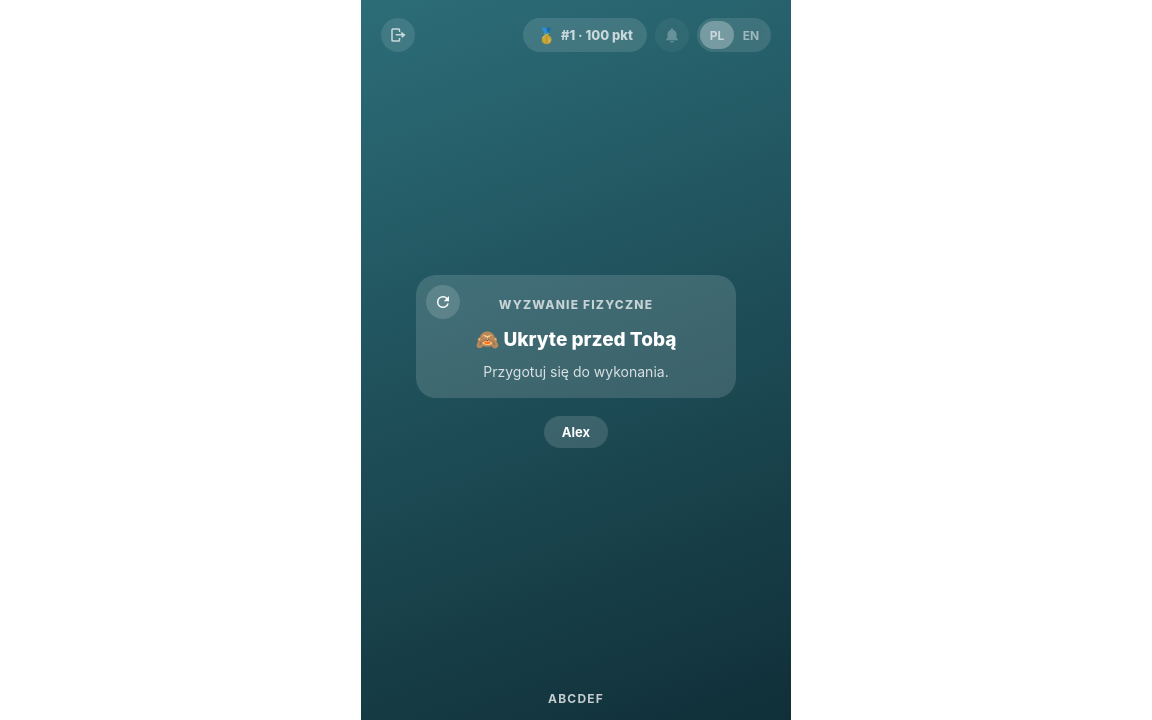
Test: Leaderboard row menu › shows a stepped away label and offers only Remove for a Guest in Sit Out
Step 1. Click the button "🥇 #1 · 100 pkt" → {"x": 585, "y": 35}, box [523,18,647,52]
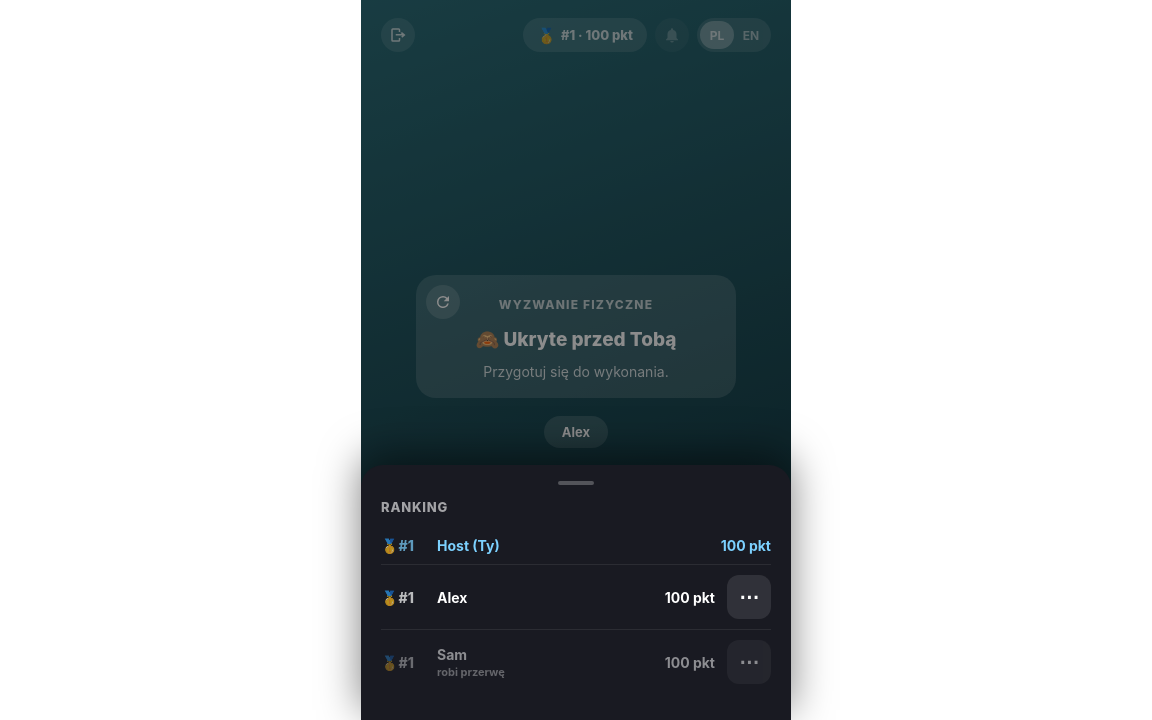
Step 2. Click the button "⋯" in the row of "robi przerwę" → {"x": 749, "y": 662}, box [727,640,771,684]
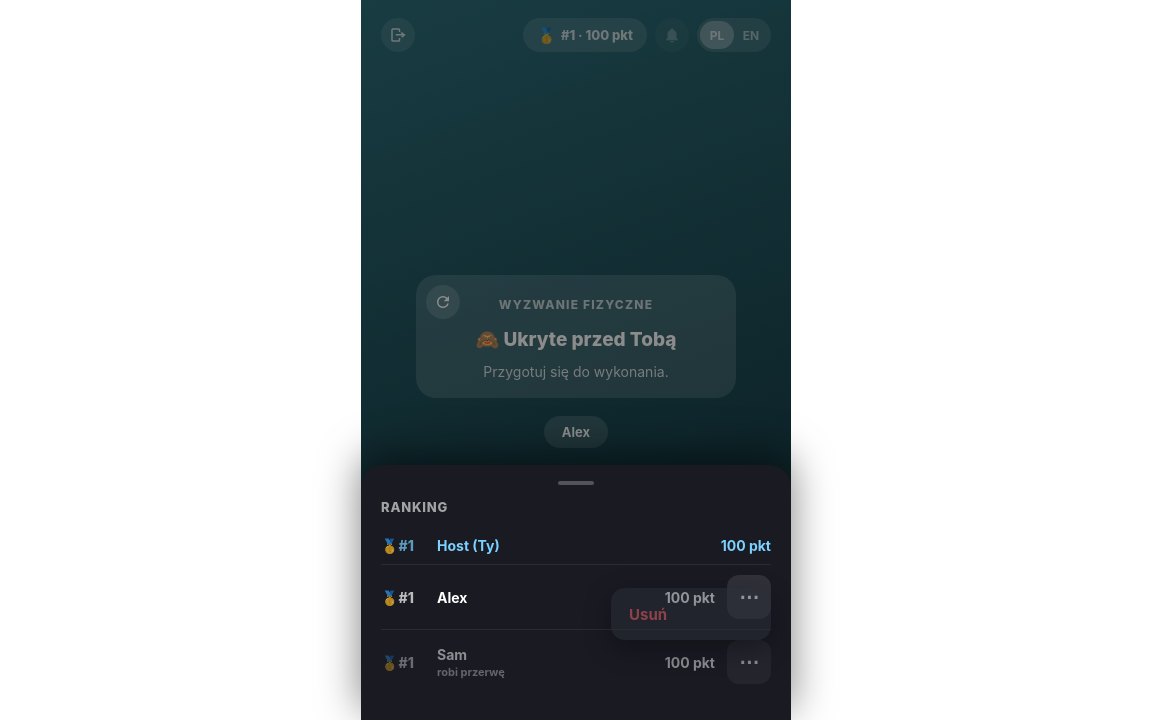
expect the text "robi przerwę" is shown: met, box [437,664,505,678]
expect the menu items read "Usuń", in this order: met, box [615,592,767,636]
